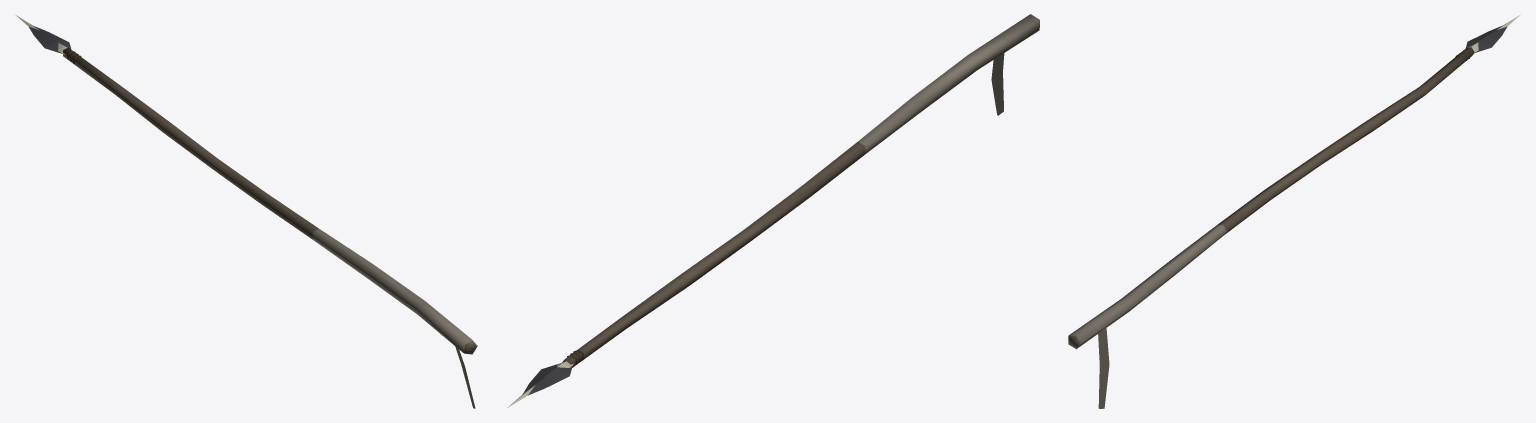
File: spears_lo.glb
The picture shows the model from 3 angles, left to right: view 1: azimuth 30°, elevation 25°; view 2: azimuth 150°, elevation 25°; view 3: azimuth 330°, elevation 25°; orthographic projection. The views are drawn at different scales.
Parts seen in each view (by area): view 1: spear_stone, spear_bone; view 2: spear_stone, spear_bone; view 3: spear_stone, spear_bone.
Part boxes in pixels (box(x1,y1,x2,y2)): spear_stone: box(29, 26, 476, 408); spear_bone: box(14, 14, 477, 354); spear_stone: box(523, 53, 1004, 395); spear_bone: box(507, 14, 1039, 407); spear_stone: box(1069, 25, 1507, 408); spear_bone: box(1068, 14, 1520, 349).
Size of the model in its own units: 0.0722 by 0.1937 by 1.92.
